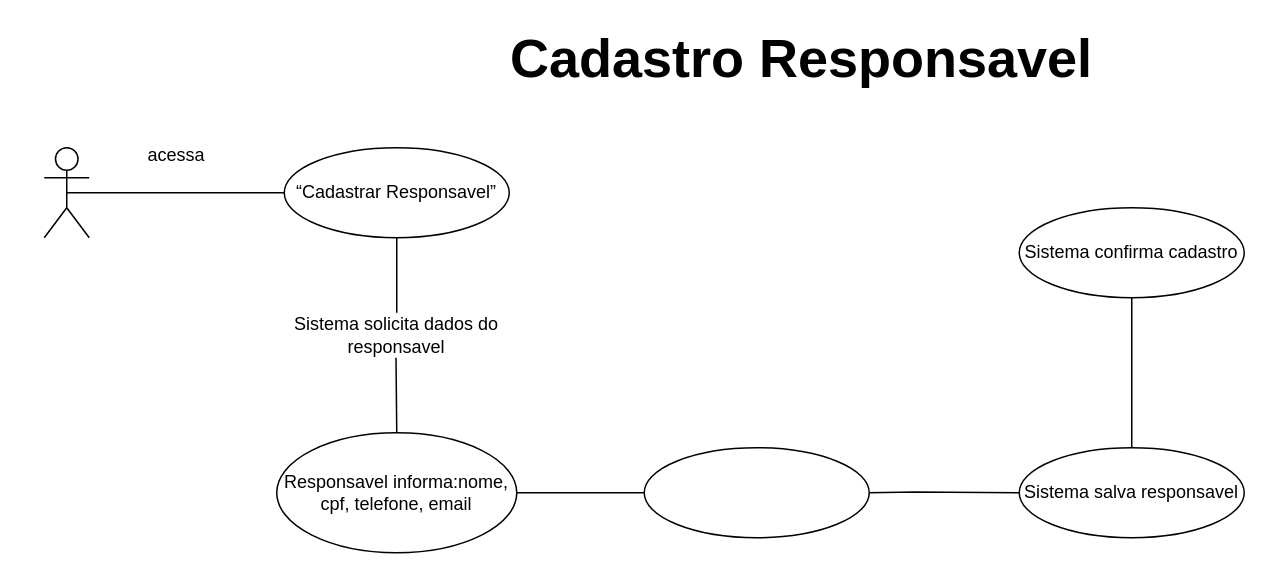
The diagram is 1271 pixels wide and 579 high, and some of its shapes have lost their labels. Each missing label, with the centre of its shape:
"Secretaria" goes at pixel 66 192.
"Sistema valida dados" goes at pixel 756 492.
